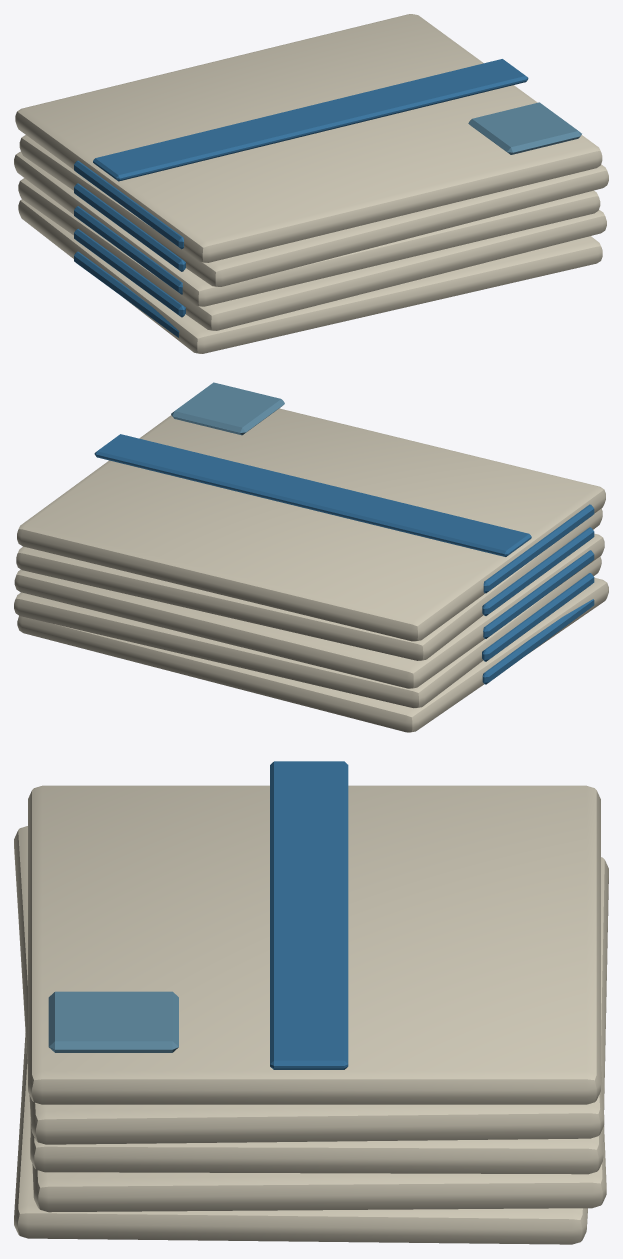
Rendered from sc-gauze-swabs.glb.
3 renders of one model, top to bottom at view 1: azimuth 30°, elevation 25°; view 2: azimuth 150°, elevation 25°; view 3: azimuth 270°, elevation 25°, orthographic. The views are drawn at different scales.
Parts seen in each view (by area): view 1: sc-gauze-swabs; view 2: sc-gauze-swabs; view 3: sc-gauze-swabs.
Part boxes in pixels (x1,y1,x2,y2): sc-gauze-swabs: (14, 14, 608, 353); sc-gauze-swabs: (14, 382, 608, 732); sc-gauze-swabs: (14, 761, 608, 1244).
Size of the model in its own units: 0.1112 by 0.0326 by 0.0914.
